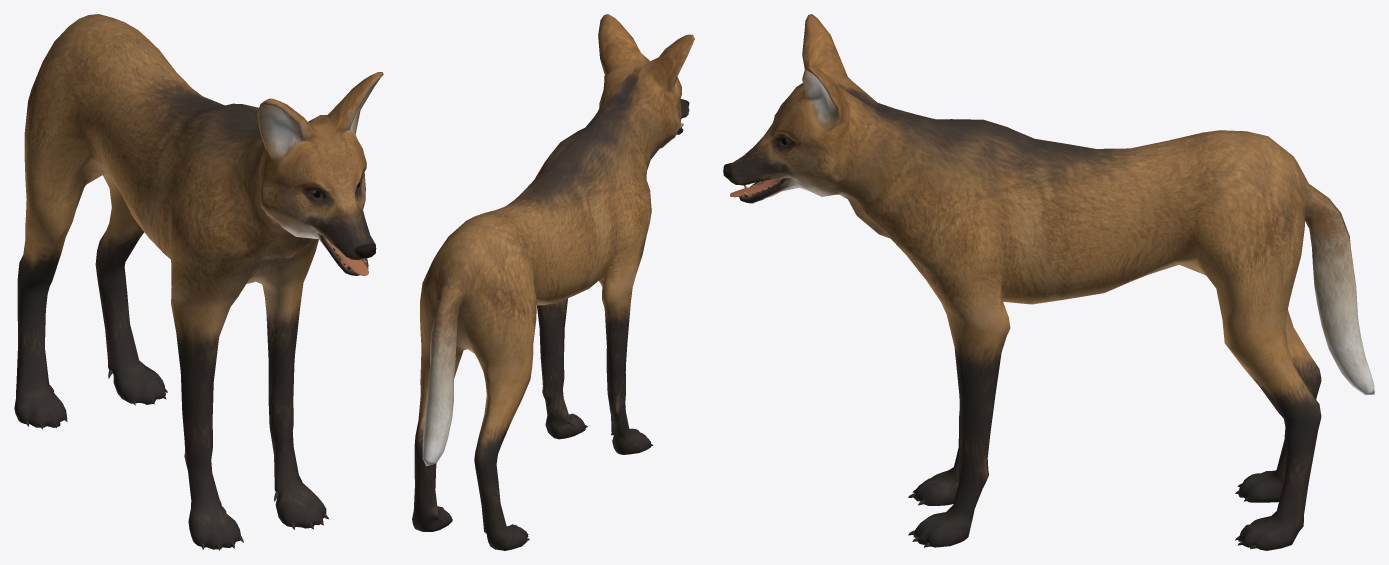
The model's file is Model_LoboGuara.fbx.
The picture shows the model from 3 angles, left to right: view 1: azimuth 30°, elevation 25°; view 2: azimuth 150°, elevation 25°; view 3: azimuth 270°, elevation 25°; orthographic projection. The views are drawn at different scales.
Visible parts, largest first — view 1: LoboGuara; view 2: LoboGuara; view 3: LoboGuara.
Boxes of the visible parts, left/top/right/bottom form: LoboGuara: left=14, top=14, right=383, bottom=550; LoboGuara: left=412, top=14, right=694, bottom=550; LoboGuara: left=723, top=14, right=1374, bottom=550.
Size of the model in its own units: 35.9 by 117 by 144.
Materials: 1 (1 with a texture image).
